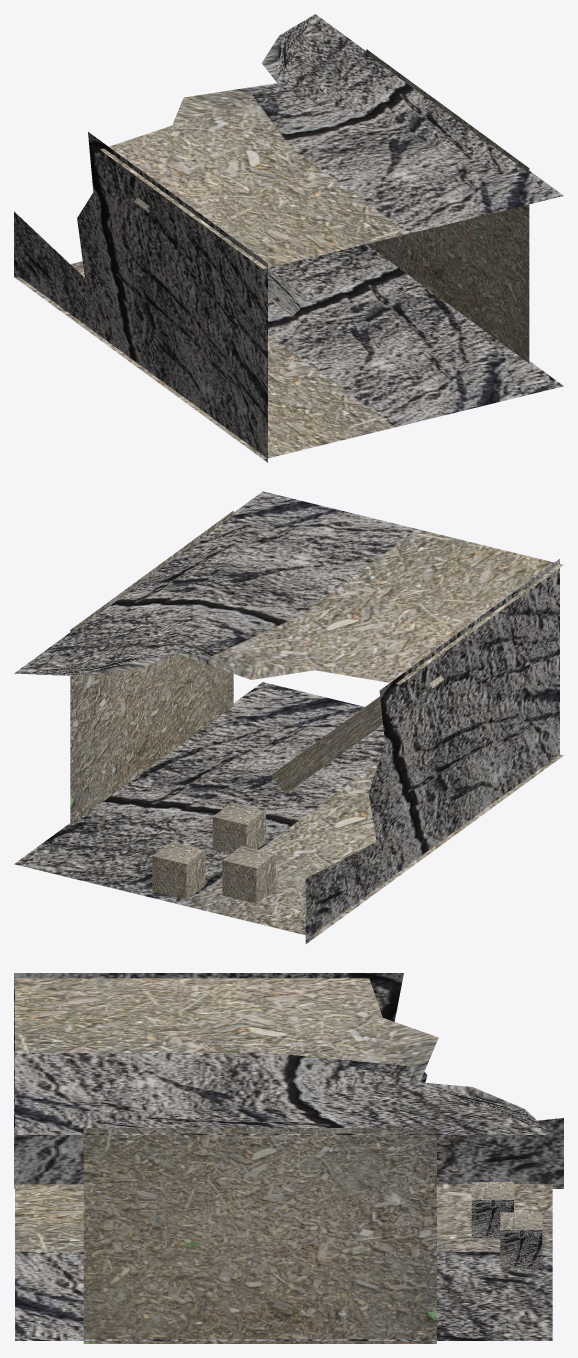
File: cell1.2.obj
3 renders of one model, top to bottom at view 1: azimuth 30°, elevation 25°; view 2: azimuth 150°, elevation 25°; view 3: azimuth 270°, elevation 25°, orthographic. The views are drawn at different scales.
Parts seen in each view (by area): view 1: Plane.005, Plane.002, Plane.001, Plane.004, Cube.004_Cube.005; view 2: Plane.005, Plane.001, Plane.002, Plane.004, Cube.004_Cube.005, Cube.003_Cube.004, Cube.002_Cube.003, Cube_Cube.002; view 3: Plane.004, Plane.005, Plane.001, Plane.002, Cube.003_Cube.004, Cube.002_Cube.003.
Boxes of the visible parts, left/top/right/bottom form: Plane.005: left=100, top=14, right=563, bottom=268; Plane.002: left=14, top=132, right=267, bottom=462; Plane.001: left=15, top=244, right=563, bottom=459; Plane.004: left=366, top=49, right=529, bottom=362; Cube.004_Cube.005: left=134, top=197, right=306, bottom=316; Plane.005: left=14, top=491, right=563, bottom=684; Plane.001: left=14, top=682, right=563, bottom=937; Plane.002: left=305, top=559, right=559, bottom=943; Plane.004: left=70, top=510, right=233, bottom=825; Cube.004_Cube.005: left=271, top=675, right=444, bottom=794; Cube.003_Cube.004: left=152, top=841, right=205, bottom=899; Cube.002_Cube.003: left=222, top=846, right=275, bottom=903; Cube_Cube.002: left=212, top=802, right=265, bottom=853; Plane.004: left=83, top=1128, right=436, bottom=1343; Plane.005: left=15, top=978, right=552, bottom=1134; Plane.001: left=15, top=1184, right=552, bottom=1340; Plane.002: left=14, top=973, right=563, bottom=1188; Cube.003_Cube.004: left=500, top=1212, right=542, bottom=1268; Cube.002_Cube.003: left=471, top=1182, right=513, bottom=1238.
Size of the model in its own units: 17.8 by 11.28 by 26.06.
